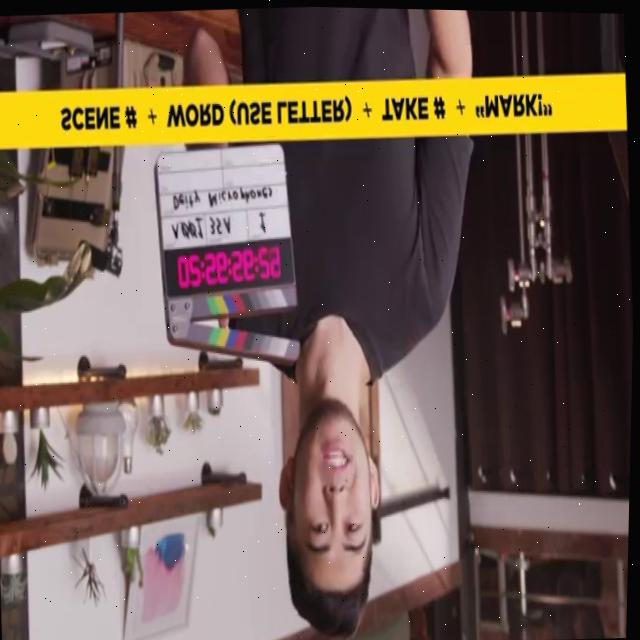Clapperboard: (144, 140, 303, 376)
